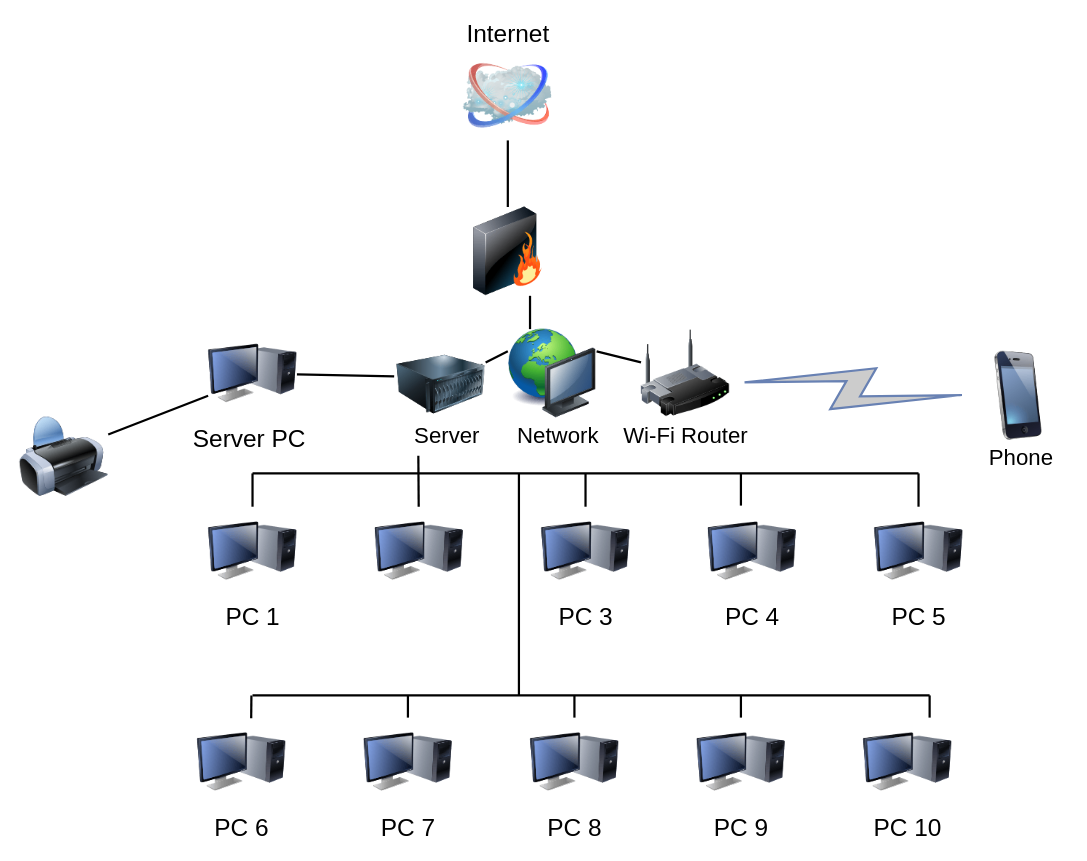
This 1087x861 diagram has some shape labels left out. The shapes that lost their labels are listed below. From the top down, each one's centre as x and y in pixels, then its label:
[507,250]: Firewall
[63,456]: Printer
[418,550]: PC 2
